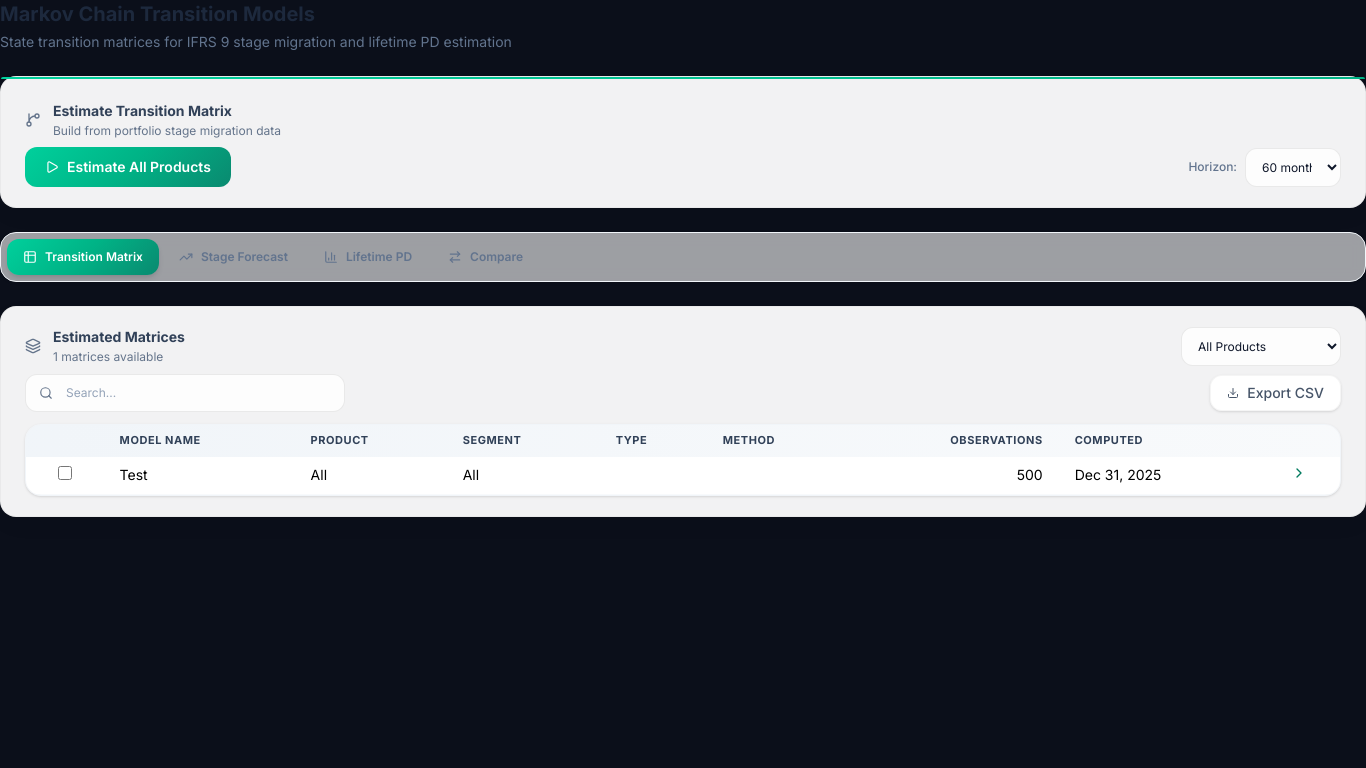
MarkovChains › renders KPI cards when a matrix is selected
// Click on matrix row to select it
Click the text "Test". click: click(134, 475)
box: [104,457,295,494]
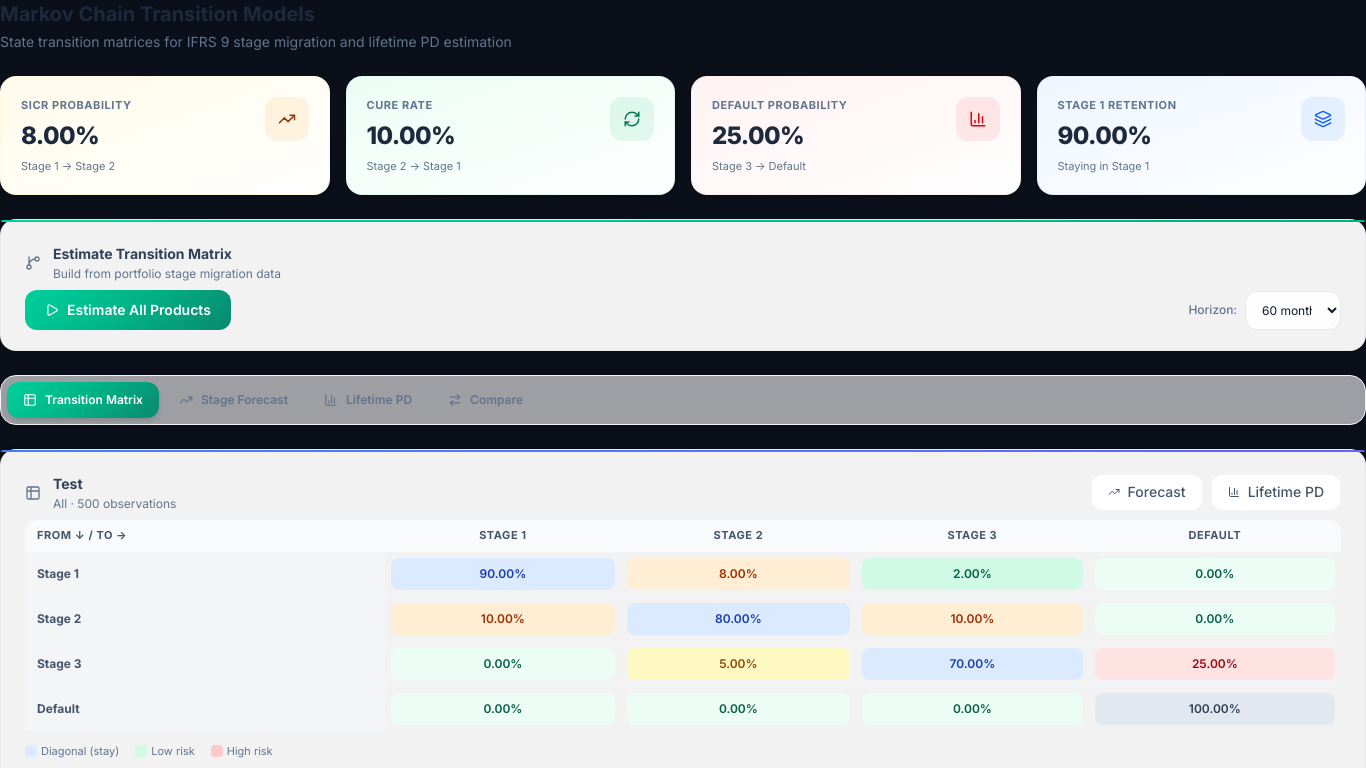
Expected: the text "SICR Probability" is shown, [21,97,132,114]
Expected: the text "Cure Rate" is shown, [366,98,433,112]
Expected: the text "Default Probability" is shown, [712,97,847,114]
